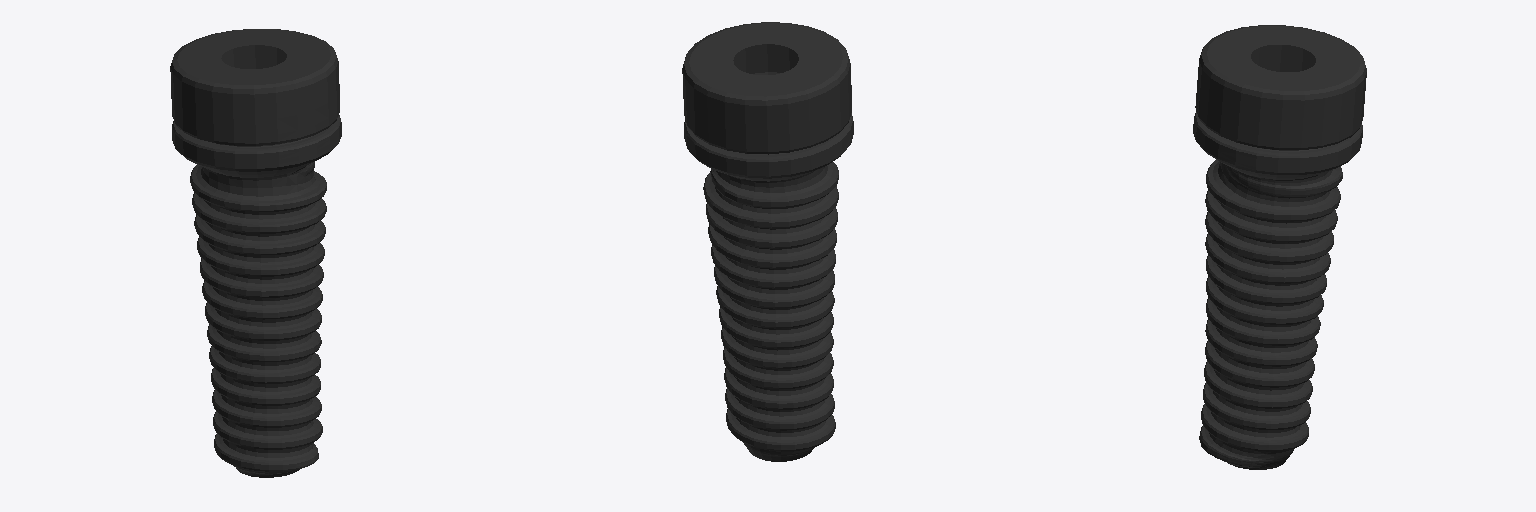
The model's file is screw_down_big_fat.obj.
3 views of the same model, side by side, from view 1: azimuth 30°, elevation 25°; view 2: azimuth 150°, elevation 25°; view 3: azimuth 270°, elevation 25° (orthographic).
Visible parts, largest first — view 1: screw_down3; view 2: screw_down3; view 3: screw_down3.
Part boxes in pixels (bbox=[...]): screw_down3: bbox=[170, 29, 341, 477]; screw_down3: bbox=[682, 22, 853, 461]; screw_down3: bbox=[1193, 25, 1366, 469].
Bounding box in the file's own units: 0.0084 × 0.022 × 0.0086.